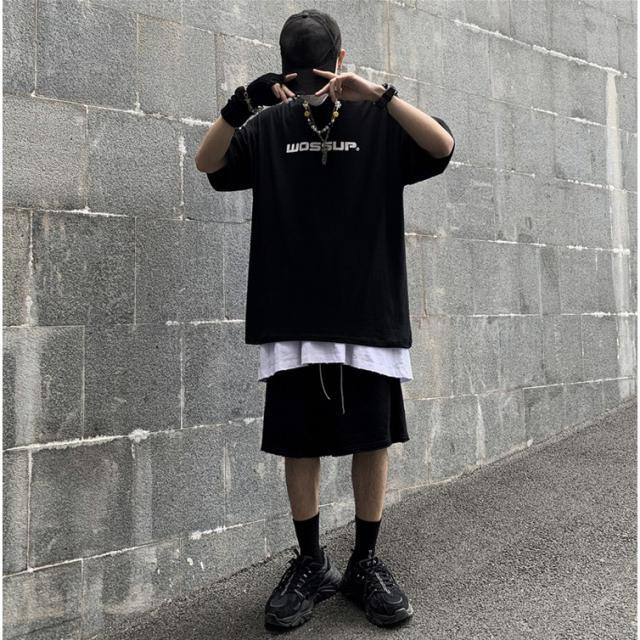Shirt: (204, 76, 448, 350)
